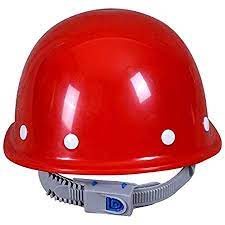helmet: (6, 8, 221, 213)
